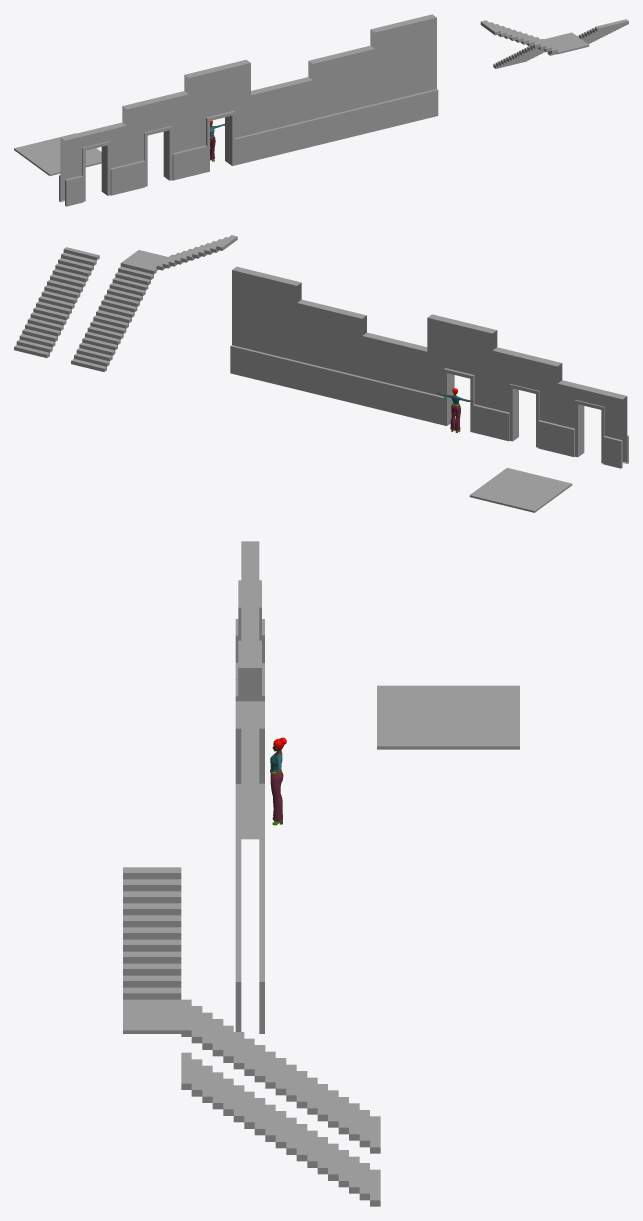
Rendered from MursBlocking.fbx.
3 views of the same model, one above another, from view 1: azimuth 30°, elevation 25°; view 2: azimuth 150°, elevation 25°; view 3: azimuth 270°, elevation 25° (orthographic). The views are drawn at different scales.
Parts seen in each view (by area): view 1: Mur_6m, Porte_6m, Mur_5m, Porte_5m, Mur_4m, Porte_4m, DoubleEscalier, Sol, Escalier; view 2: Mur_6m, Porte_6m, Mur_5m, DoubleEscalier, Porte_5m, Mur_4m, Porte_4m, Escalier, Sol, pCube211; view 3: DoubleEscalier, Sol, Escalier, Porte_6m, Mur_6m, Porte_5m, Porte_4m, Mur_5m, Mur_4m, pCube211.
Part boxes in pixels (left/top/right/bottom): Mur_6m: left=370, top=14, right=438, bottom=130; Porte_6m: left=184, top=59, right=252, bottom=176; Mur_5m: left=308, top=45, right=376, bottom=145; Porte_5m: left=122, top=91, right=190, bottom=191; Mur_4m: left=251, top=77, right=314, bottom=161; Porte_4m: left=59, top=122, right=128, bottom=206; DoubleEscalier: left=480, top=20, right=589, bottom=68; Sol: left=14, top=133, right=101, bottom=175; Escalier: left=547, top=19, right=628, bottom=55; Mur_6m: left=230, top=266, right=301, bottom=389; Porte_6m: left=426, top=314, right=497, bottom=436; Mur_5m: left=295, top=299, right=366, bottom=404; DoubleEscalier: left=71, top=235, right=237, bottom=371; Porte_5m: left=491, top=347, right=562, bottom=452; Mur_4m: left=360, top=332, right=427, bottom=420; Porte_4m: left=556, top=380, right=628, bottom=468; Escalier: left=14, top=247, right=99, bottom=357; Sol: left=469, top=467, right=572, bottom=512; pCube211: left=436, top=388, right=473, bottom=432; DoubleEscalier: left=123, top=867, right=380, bottom=1153; Sol: left=377, top=685, right=519, bottom=749; Escalier: left=181, top=1052, right=380, bottom=1206; Porte_6m: left=235, top=597, right=264, bottom=800; Mur_6m: left=235, top=778, right=264, bottom=1033; Porte_5m: left=235, top=569, right=264, bottom=701; Porte_4m: left=235, top=541, right=264, bottom=679; Mur_5m: left=235, top=750, right=264, bottom=921; Mur_4m: left=235, top=722, right=264, bottom=860; pCube211: left=270, top=737, right=286, bottom=825.
Bounding box in the file's own units: 3543 × 600 × 1109.
